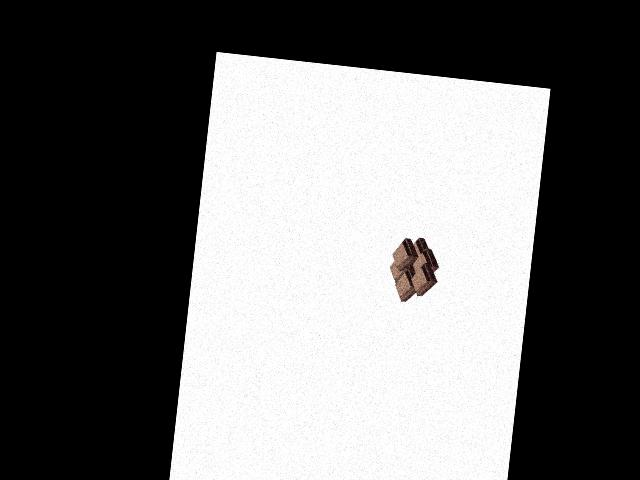chocolate: (384, 232, 440, 304)
